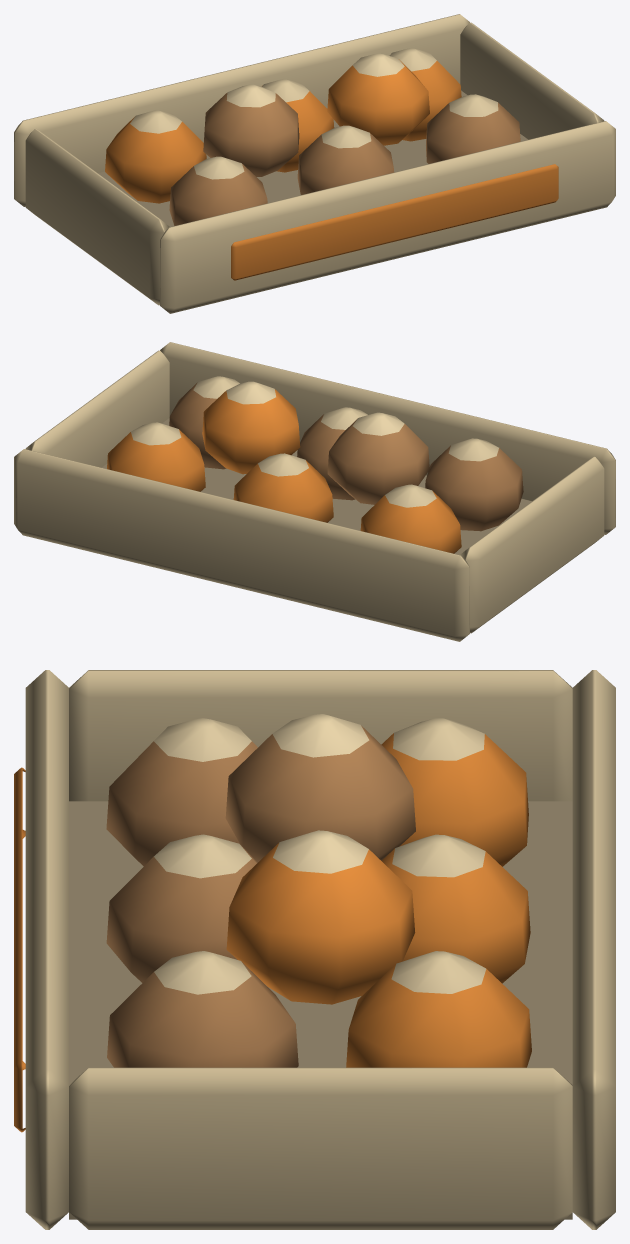
The model's file is ProduceTray_Onions_01.glb.
3 renders of one model, top to bottom at view 1: azimuth 30°, elevation 25°; view 2: azimuth 150°, elevation 25°; view 3: azimuth 270°, elevation 25°, orthographic. The views are drawn at different scales.
Parts seen in each view (by area): view 1: SM_ProduceTray_Onions_01; view 2: SM_ProduceTray_Onions_01; view 3: SM_ProduceTray_Onions_01.
Part boxes in pixels (x1=…): SM_ProduceTray_Onions_01: x1=14, y1=14, x2=615, y2=313; SM_ProduceTray_Onions_01: x1=14, y1=342, x2=615, y2=641; SM_ProduceTray_Onions_01: x1=14, y1=670, x2=615, y2=1229.
Size of the model in its own units: 0.5 by 0.142 by 0.306.
Materials: 1 (1 with a texture image).
